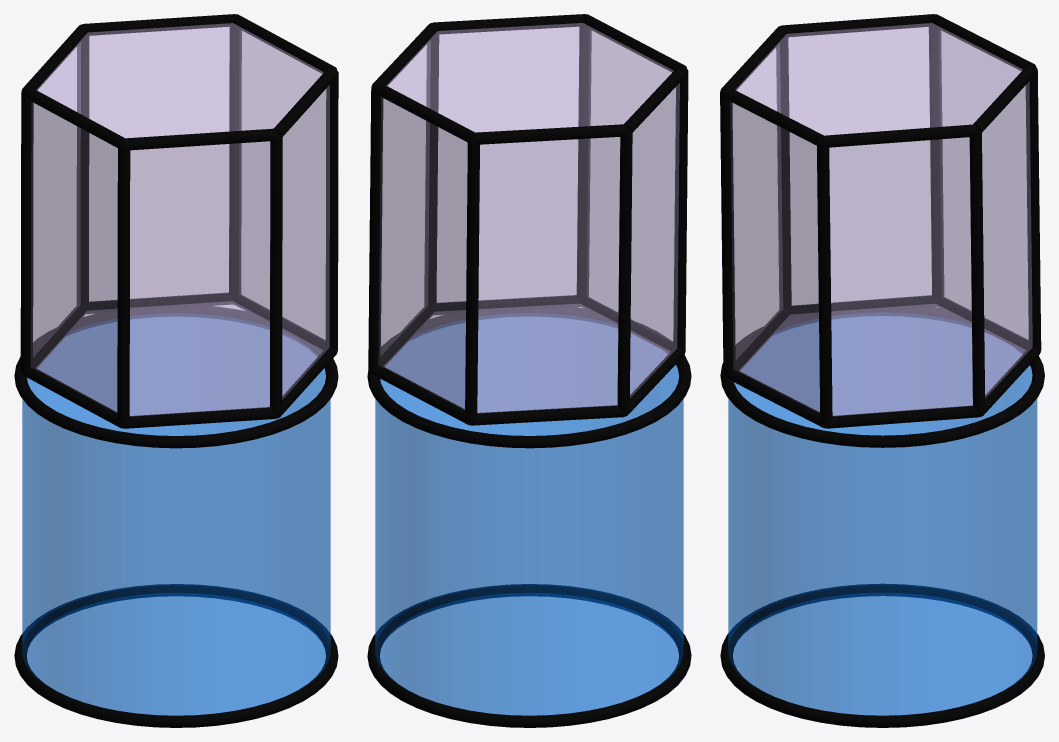
The model's file is hexagonal prism on cylinder.fbx.
3 renders of one model, left to right at view 1: azimuth 30°, elevation 25°; view 2: azimuth 150°, elevation 25°; view 3: azimuth 270°, elevation 25°, orthographic.
Visible parts, largest first — view 1: ReferenceHexPrism, ReferenceCylinder, BottomRing, TopRing; view 2: ReferenceHexPrism, ReferenceCylinder, BottomRing, TopRing; view 3: ReferenceHexPrism, ReferenceCylinder, BottomRing, TopRing.
Boxes of the visible parts, box(x1,y1,x2,y2) form: ReferenceHexPrism: box(20, 14, 338, 428); ReferenceCylinder: box(22, 316, 330, 715); BottomRing: box(14, 584, 338, 727); TopRing: box(14, 306, 338, 448); ReferenceHexPrism: box(368, 14, 688, 425); ReferenceCylinder: box(375, 316, 683, 715); BottomRing: box(367, 584, 691, 727); TopRing: box(367, 307, 691, 448); ReferenceHexPrism: box(720, 14, 1041, 428); ReferenceCylinder: box(728, 316, 1037, 715); BottomRing: box(720, 584, 1044, 727); TopRing: box(720, 307, 1044, 447).
Size of the model in its own units: 210 by 420 by 210.
